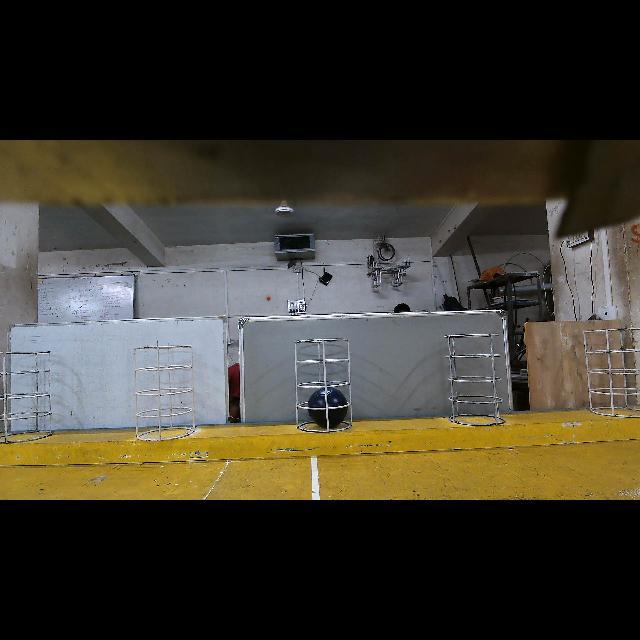P: (308, 387, 348, 428)
S: (132, 346, 196, 442), (444, 331, 506, 429), (294, 338, 354, 434), (582, 327, 640, 419), (0, 348, 54, 444)
